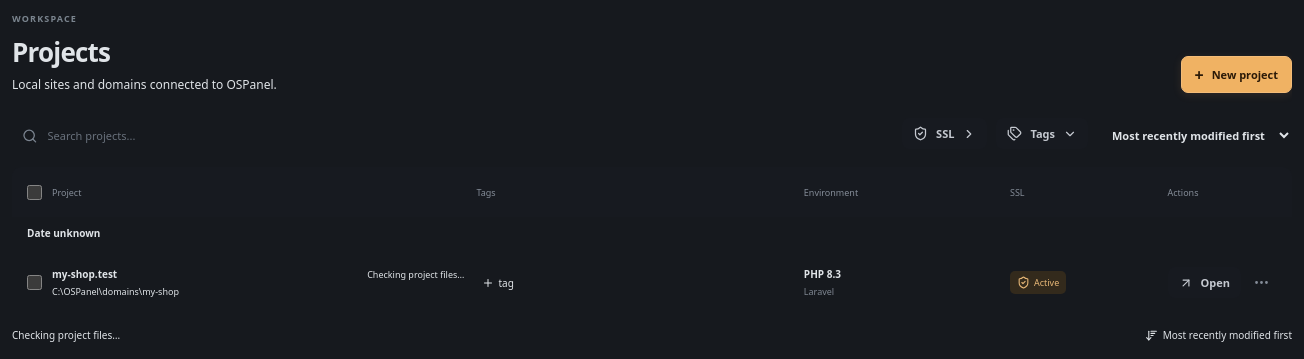
Scenario: Projects filtering › shows the filtered-empty note when no project matches
Step 1. Click the button "SSL" → (945, 134), box [902, 118, 987, 149]
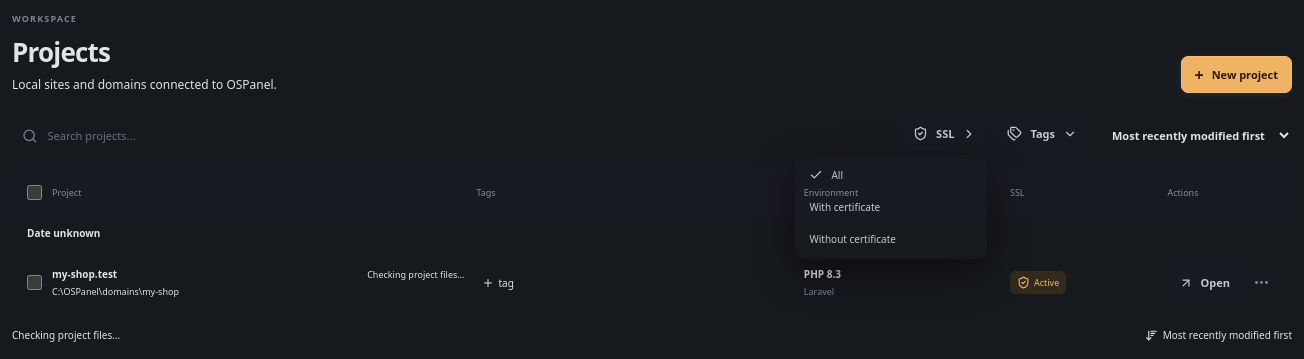
Step 2. Click the menu item "Without certificate" → (891, 239), box [800, 224, 982, 254]
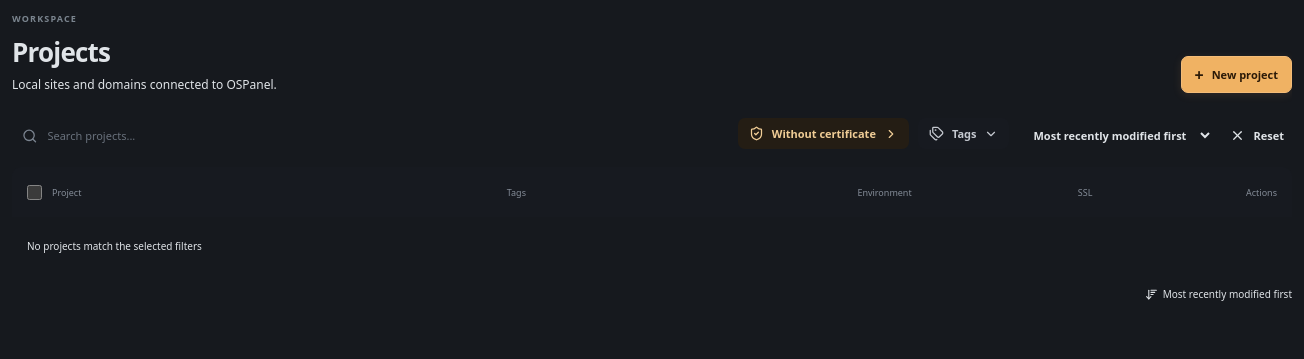
Expected: the text "No projects match the selected filters" is shown, [27, 239, 202, 253]
